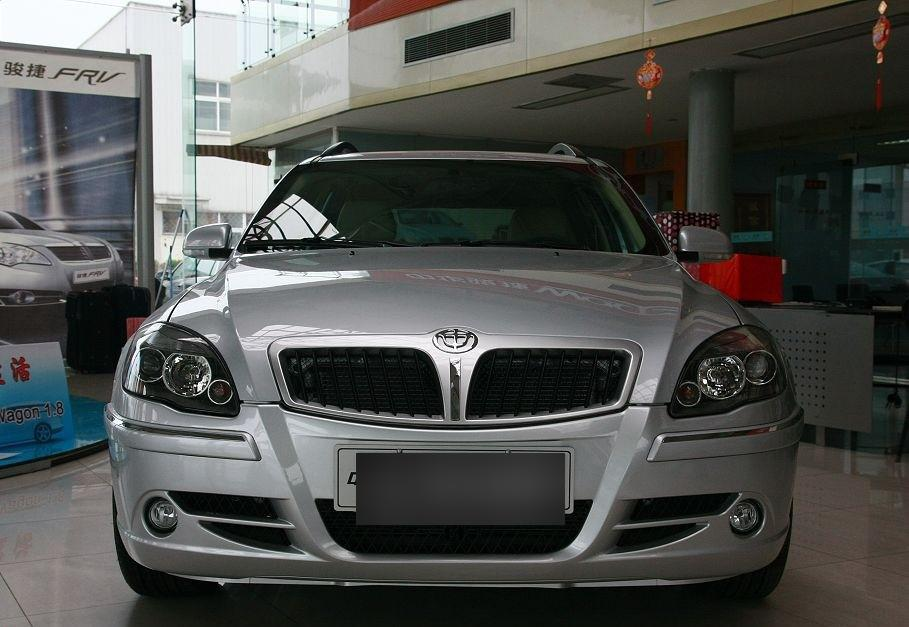Wagon: (103, 141, 804, 604)
